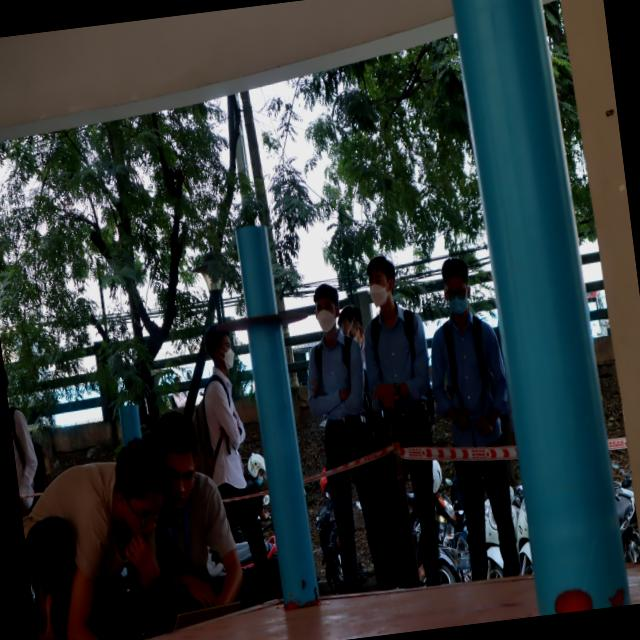pole: (212, 216, 314, 389)
